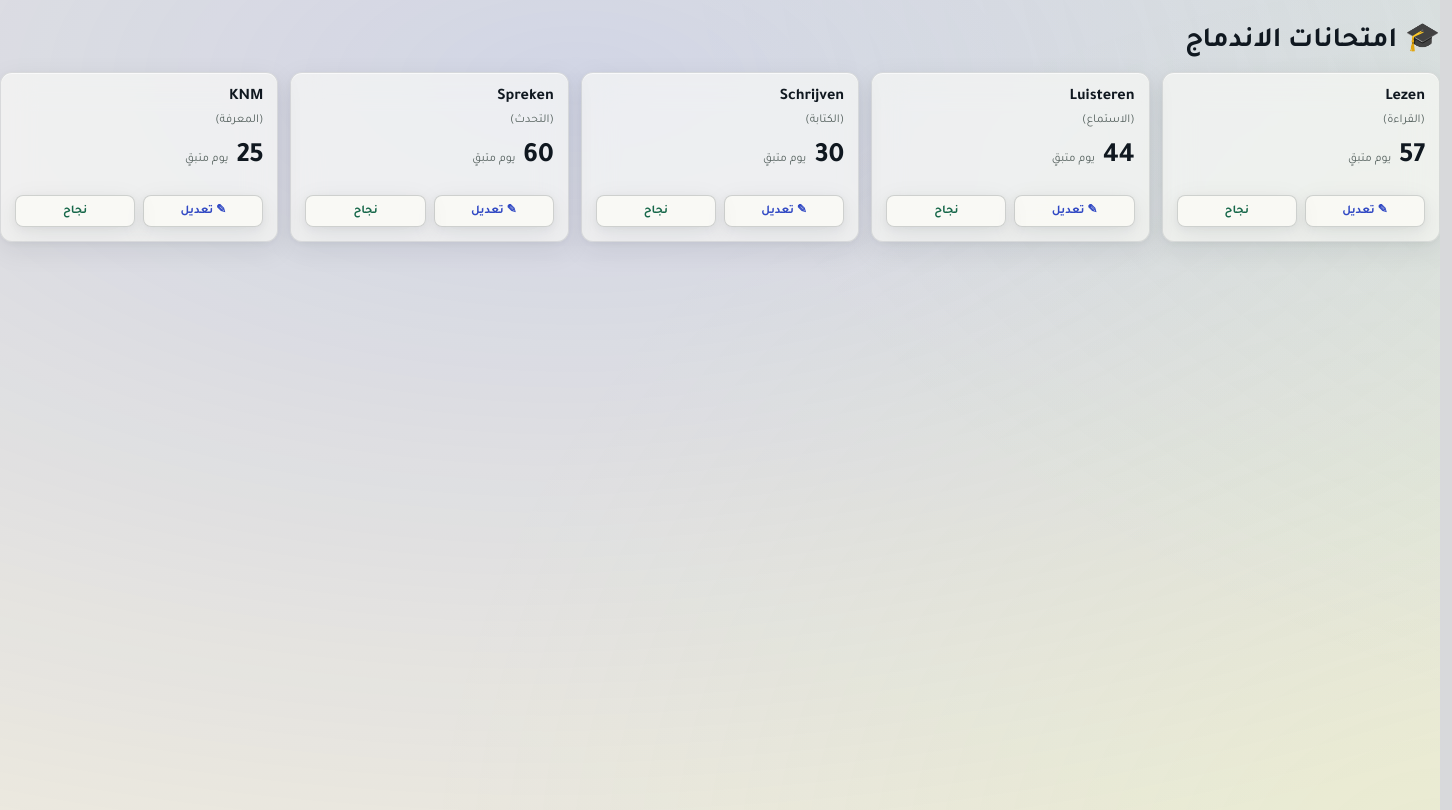
Test case: ExamCountdowns › marking an exam passed swaps to the success state and disables editing
What coordinates should you click on to do the following:
click the button with aria-label "تحديد نجاح Lezen"
I would click on:
 (1237, 211)
Its box is [1177, 195, 1297, 227].
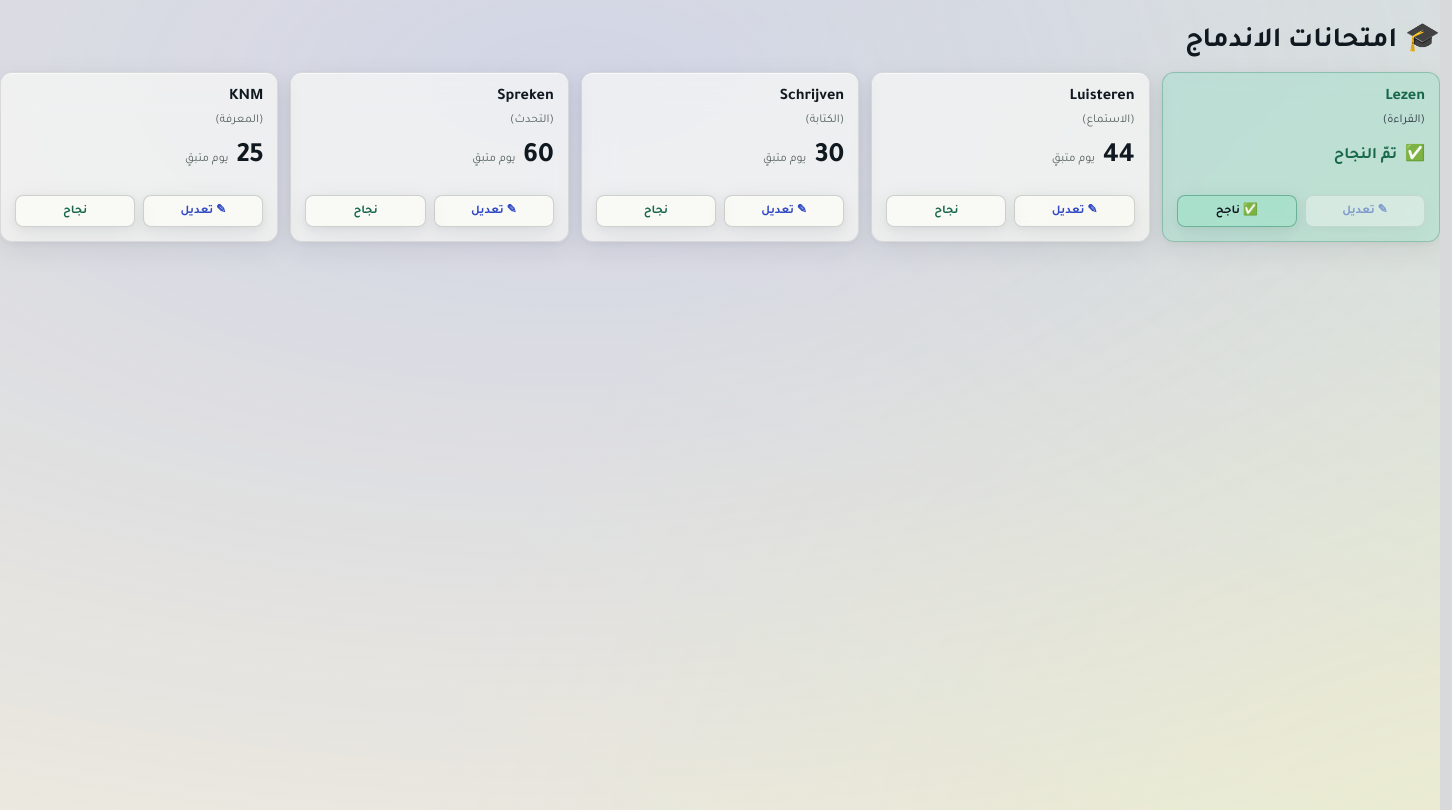
Result: the text "✅ تمّ النجاح" is shown at [1334, 148, 1425, 164]
Result: the button with aria-label "تعديل تاريخ امتحان Lezen" is disabled at [1305, 195, 1425, 227]
Result: the button with aria-label "إلغاء نجاح Lezen" is shown at [1177, 195, 1297, 227]
